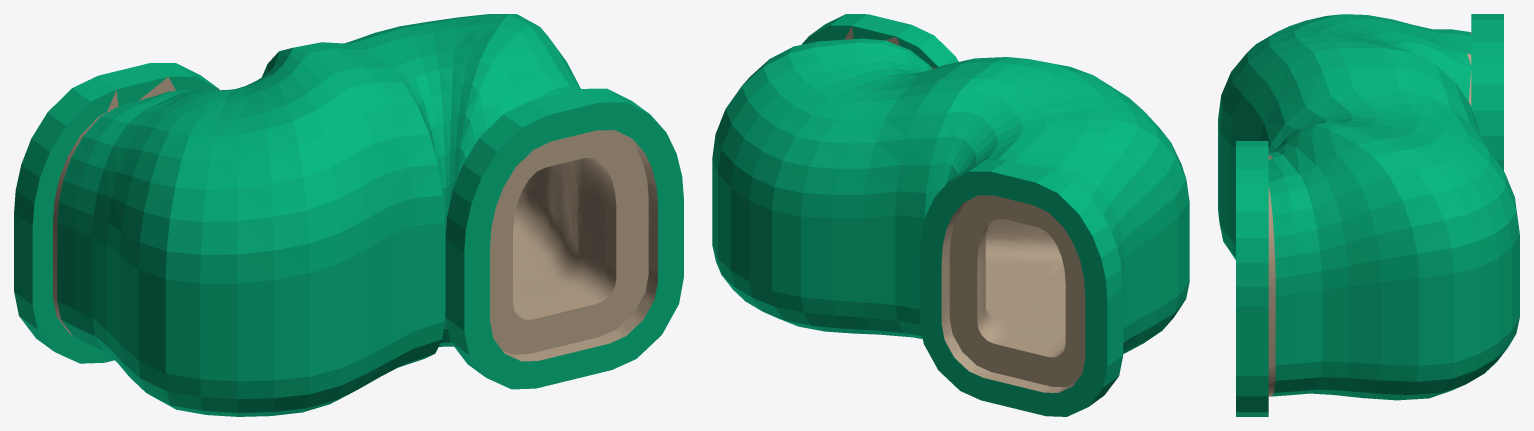
File: TT_Dogleg_L_C.fbx
3 renders of one model, left to right at view 1: azimuth 30°, elevation 25°; view 2: azimuth 150°, elevation 25°; view 3: azimuth 270°, elevation 25°, orthographic. The views are drawn at different scales.
Parts seen in each view (by area): view 1: TT_Dogleg_L_C_LOD0; view 2: TT_Dogleg_L_C_LOD0; view 3: TT_Dogleg_L_C_LOD0.
Boxes of the visible parts, x1=… form: TT_Dogleg_L_C_LOD0: x1=14, y1=14, x2=683, y2=416; TT_Dogleg_L_C_LOD0: x1=712, y1=14, x2=1189, y2=416; TT_Dogleg_L_C_LOD0: x1=1218, y1=14, x2=1519, y2=416.
Size of the model in its own units: 800 by 455 by 462.
